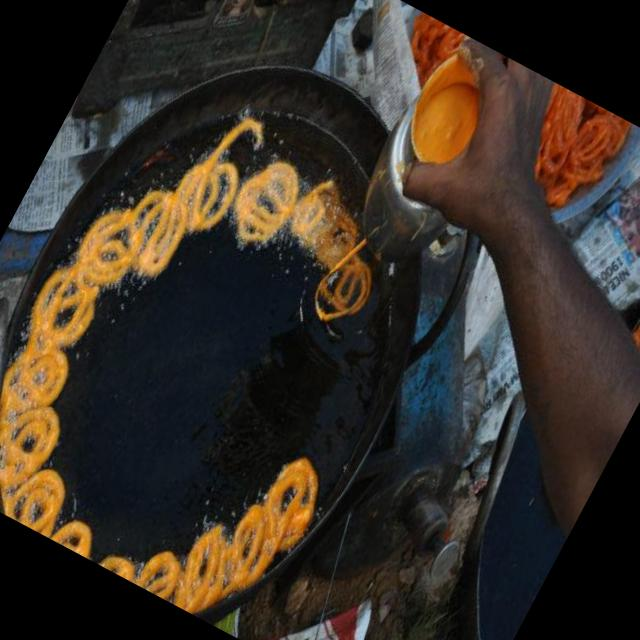jalebi: (0, 162, 362, 610), (508, 93, 640, 237)
